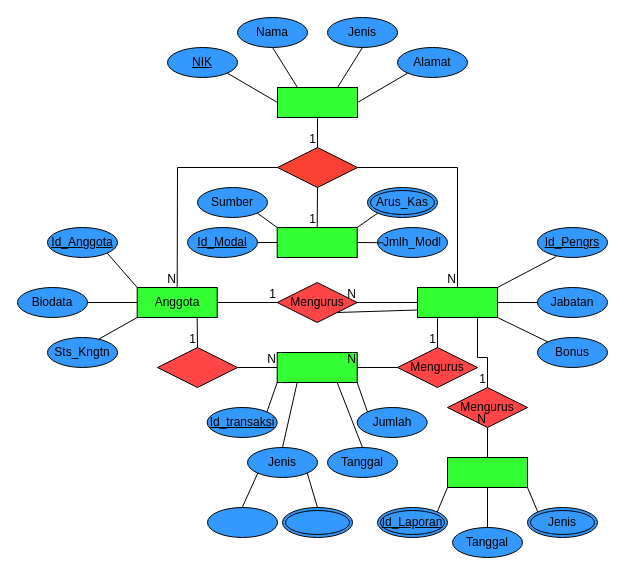
Some shapes in this 625 by 575 pixel diagram are drawn without their labels. The shapes that lost their labels are listed below. From the top down, each one's centre as x and y in pixels, then its label:
(x=317, y=102): Koperasi
(x=317, y=167): Memiliki
(x=316, y=242): Modal
(x=457, y=302): Pengurus
(x=197, y=367): Melakukan
(x=316, y=367): Transaksi
(x=487, y=472): Laporan
(x=242, y=522): Simpanan
(x=317, y=522): Pinjaman
